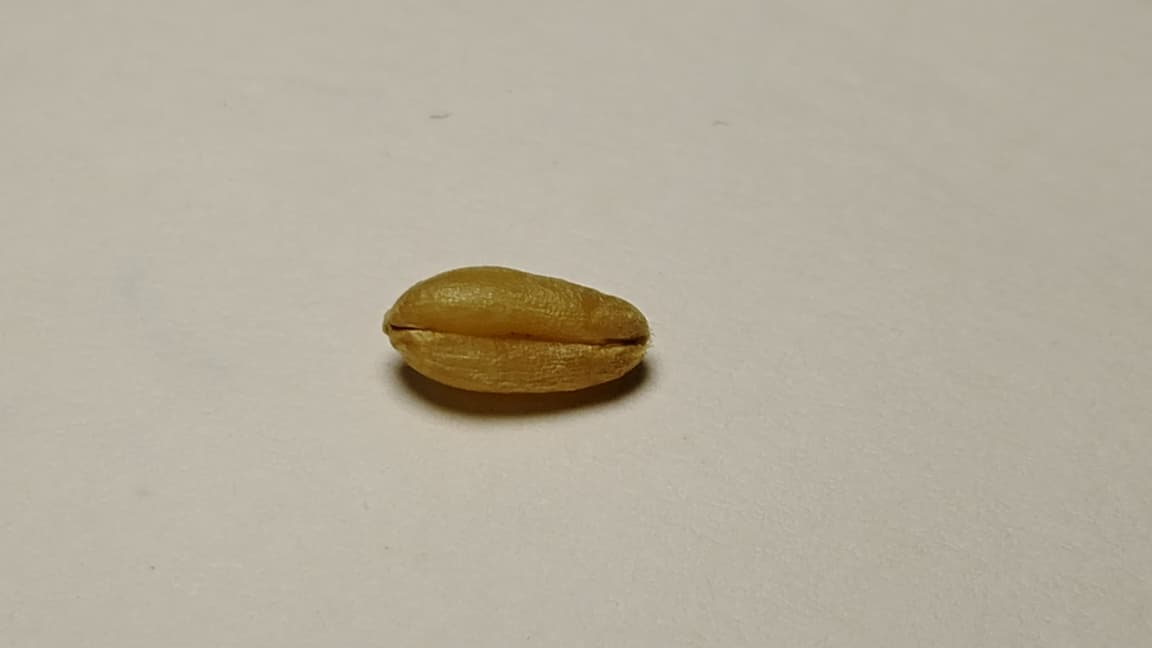healthy: (383, 266, 650, 401)
